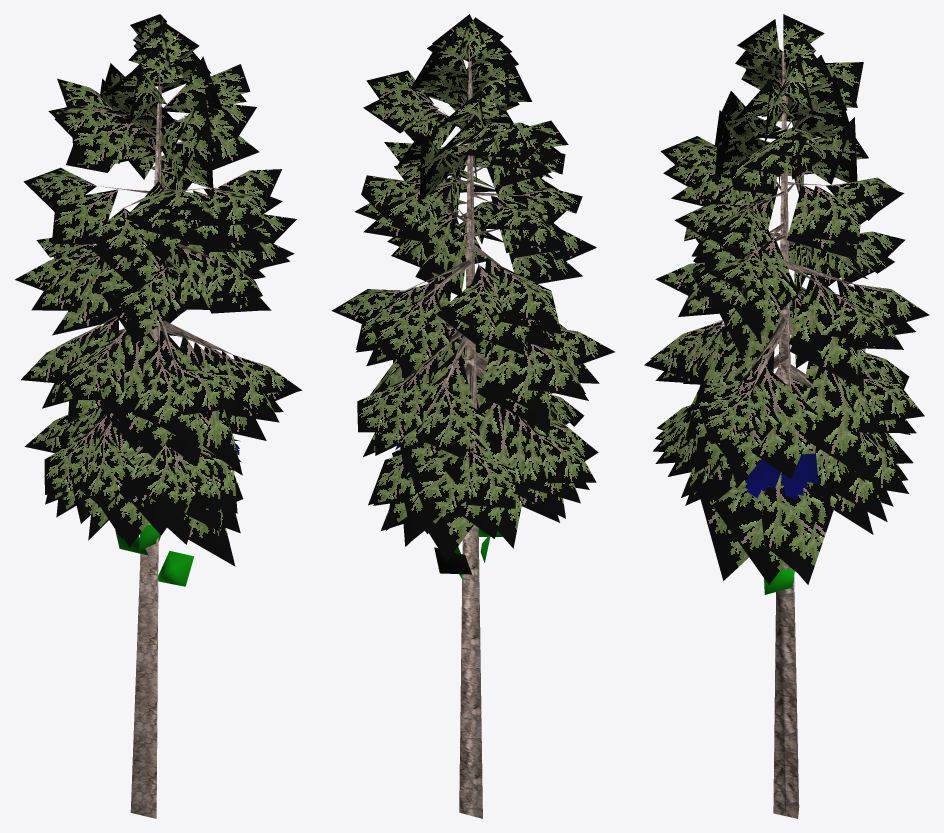
File: Spruce1.fbx
The picture shows the model from 3 angles, left to right: view 1: azimuth 30°, elevation 25°; view 2: azimuth 150°, elevation 25°; view 3: azimuth 270°, elevation 25°; orthographic projection.
Visible parts, largest first — view 1: spruce branch_1, bark08_0, branch06_2; view 2: spruce branch_1, bark08_0, branch06_2; view 3: spruce branch_1, bark08_0, branch06_2.
Part boxes in pixels (x1,y1,x2,y2): spruce branch_1: (15, 14, 302, 566); bark08_0: (83, 86, 233, 818); branch06_2: (115, 439, 241, 586); spruce branch_1: (331, 14, 614, 561); bark08_0: (406, 51, 535, 818); branch06_2: (395, 444, 502, 579); spruce branch_1: (644, 14, 929, 584); bark08_0: (708, 51, 860, 818); branch06_2: (745, 453, 818, 594).
Bounding box in the file's own units: 517 × 1627 × 525.
Materials: 2 (2 with a texture image).
